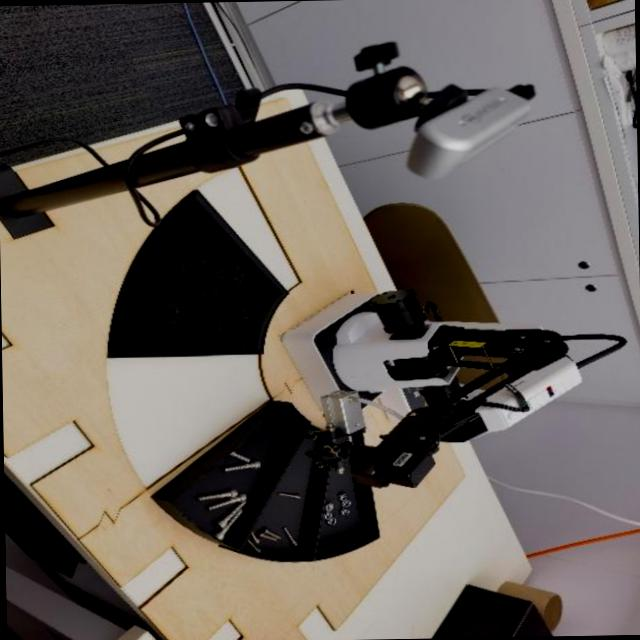big: (210, 495, 248, 531), (209, 503, 243, 542), (201, 490, 248, 514), (191, 487, 238, 502), (218, 458, 262, 474), (226, 447, 252, 465)
board: (104, 190, 295, 363)
box: (145, 366, 316, 555), (224, 411, 339, 568), (294, 427, 383, 565)
circle: (339, 507, 351, 517), (340, 499, 352, 509), (337, 491, 349, 501), (323, 500, 333, 512), (326, 517, 336, 527), (322, 511, 332, 519)
small: (278, 524, 299, 549), (254, 529, 278, 546), (260, 526, 283, 543), (273, 489, 303, 501), (243, 537, 262, 555), (246, 529, 261, 547)
